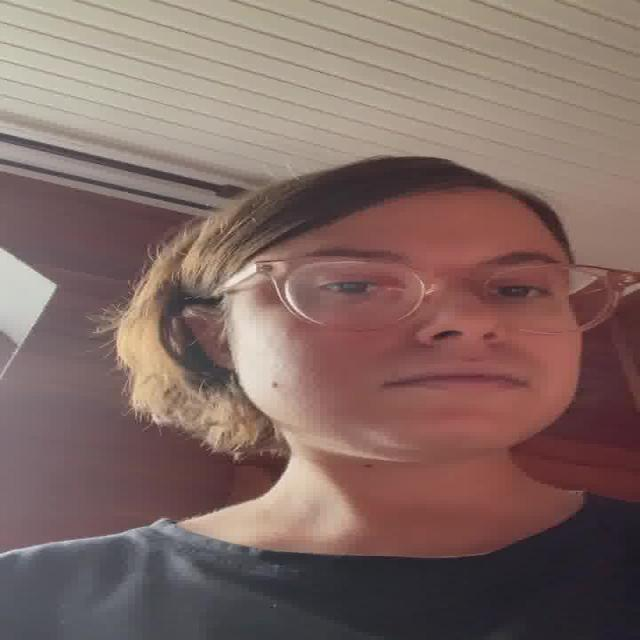earlobe: (203, 344, 235, 372)
eye: (487, 282, 556, 302), (317, 280, 394, 296)
nose: (424, 335, 509, 367)
wholeear: (180, 304, 237, 372)
